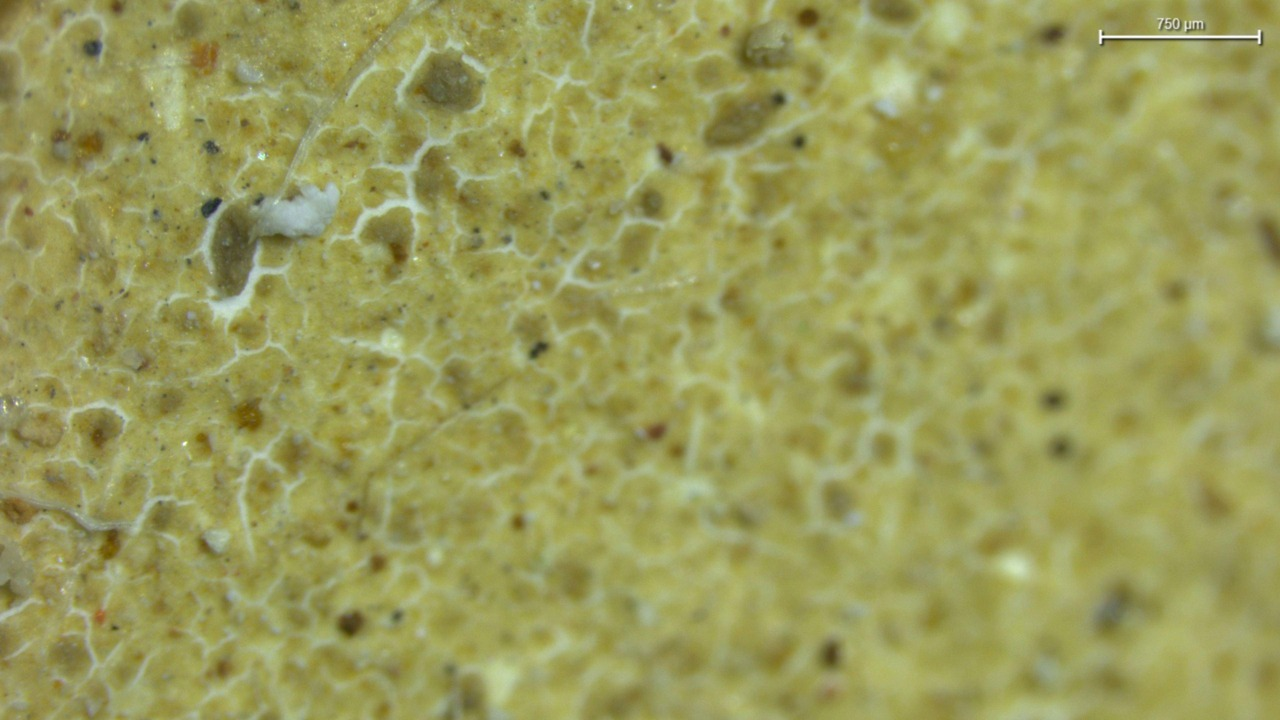microplastic_fragment: (255, 182, 339, 238), (743, 20, 793, 67)
